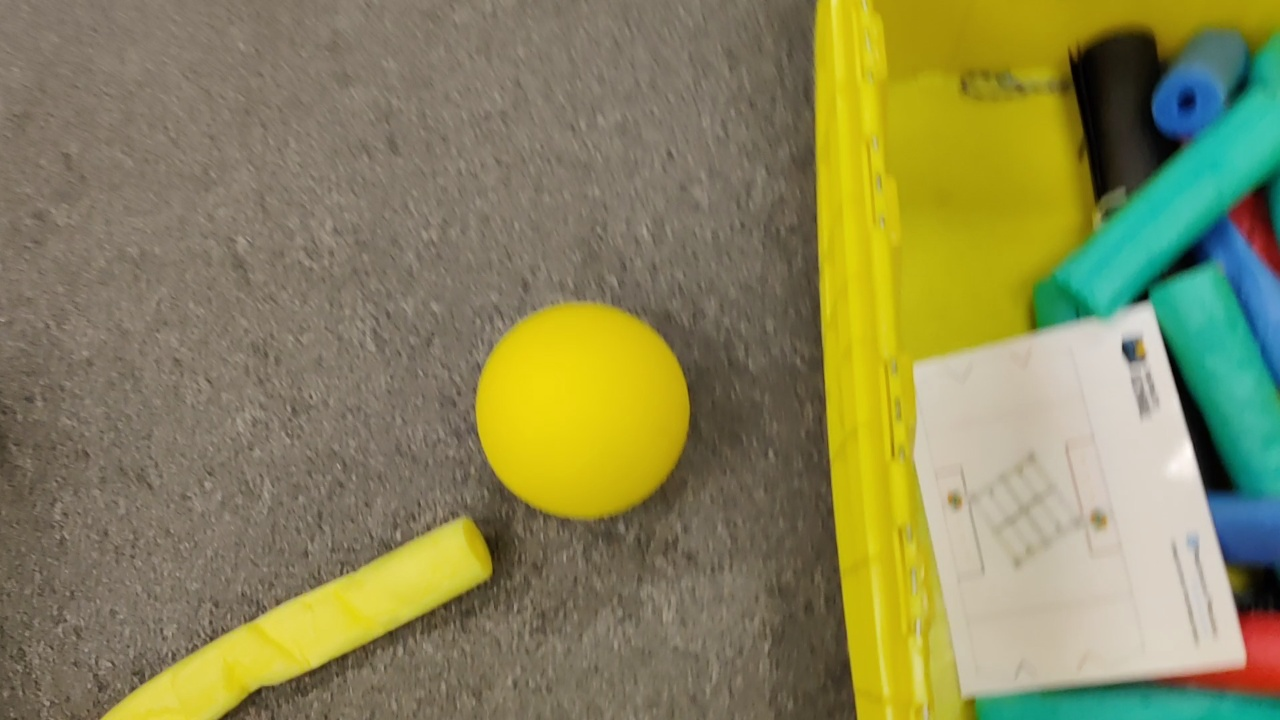Ball: (489, 303, 682, 518)
